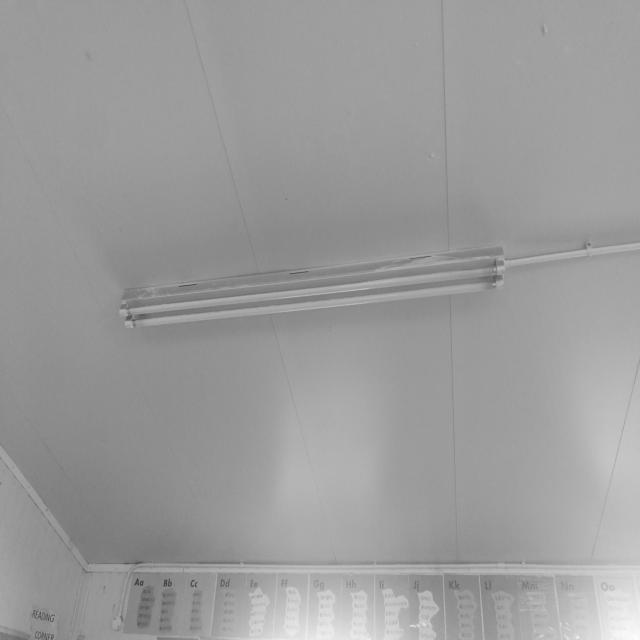light: (118, 244, 506, 330)
